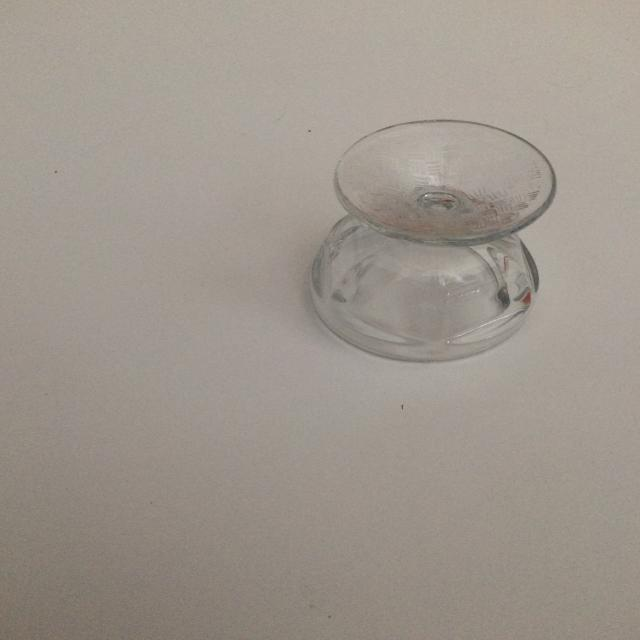glass: (308, 118, 557, 363)
